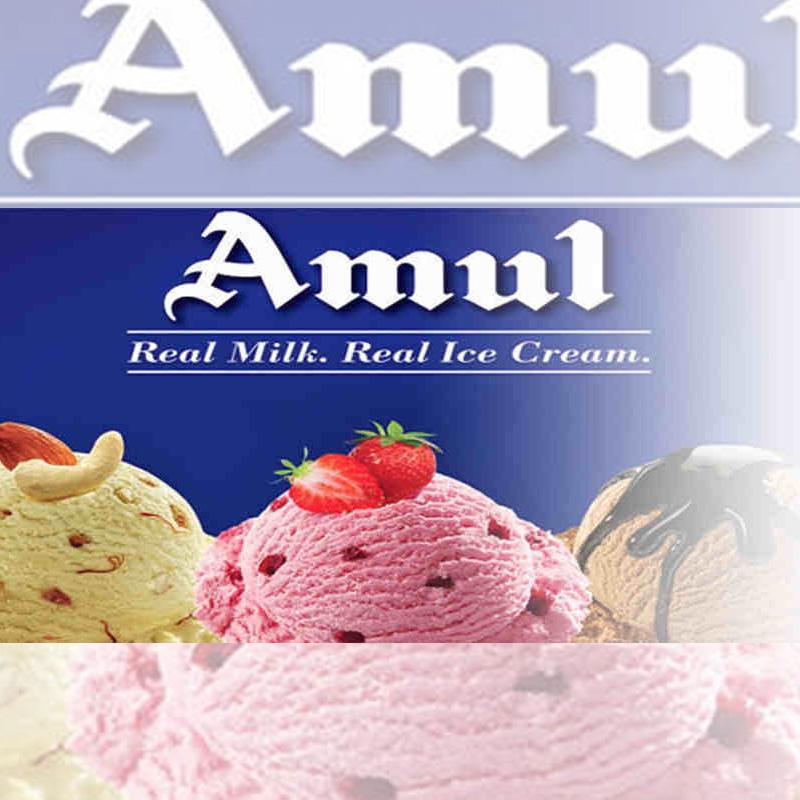Amul: (160, 212, 628, 328)
